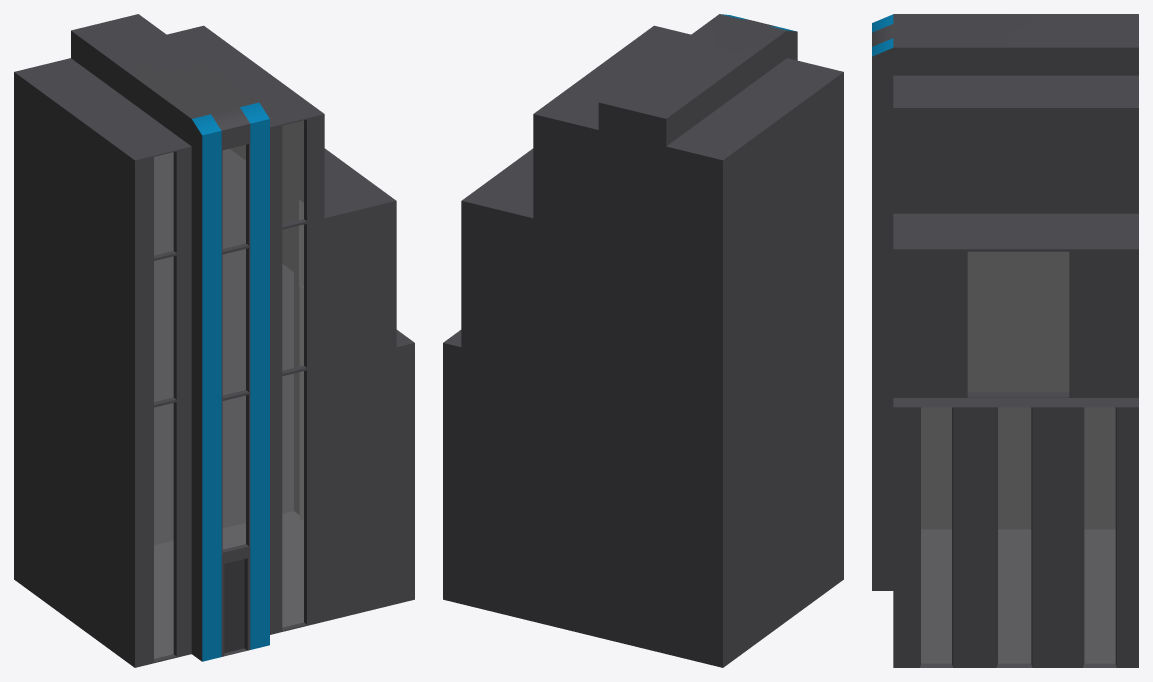
The model's file is office_B.fbx.
3 views of the same model, side by side, from view 1: azimuth 30°, elevation 25°; view 2: azimuth 150°, elevation 25°; view 3: azimuth 270°, elevation 25° (orthographic).
Visible parts, largest first — view 1: office_building; view 2: office_building; view 3: office_building.
Boxes of the visible parts, left/top/right/bottom form: office_building: left=14, top=14, right=414, bottom=667; office_building: left=443, top=14, right=843, bottom=667; office_building: left=872, top=14, right=1138, bottom=667.
Size of the model in its own units: 32805 by 59904 by 26652.
